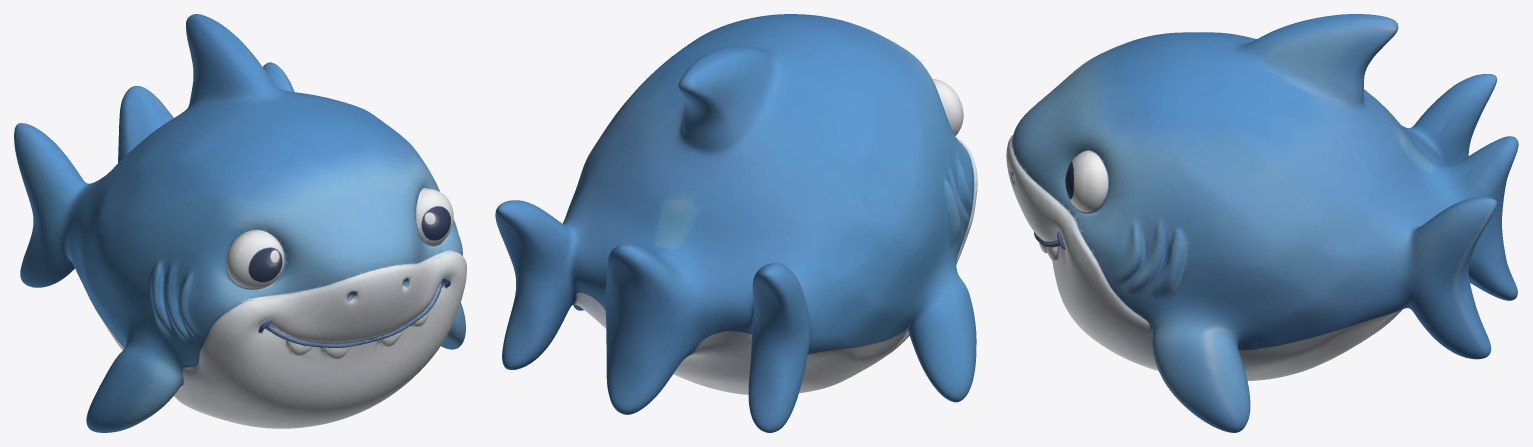
File: Squalo.glb
3 views of the same model, side by side, from view 1: azimuth 30°, elevation 25°; view 2: azimuth 150°, elevation 25°; view 3: azimuth 270°, elevation 25° (orthographic). The views are drawn at different scales.
Bounding box in the file's own units: 1.62 × 1.41 × 1.9.
Materials: 1 (1 with a texture image).
